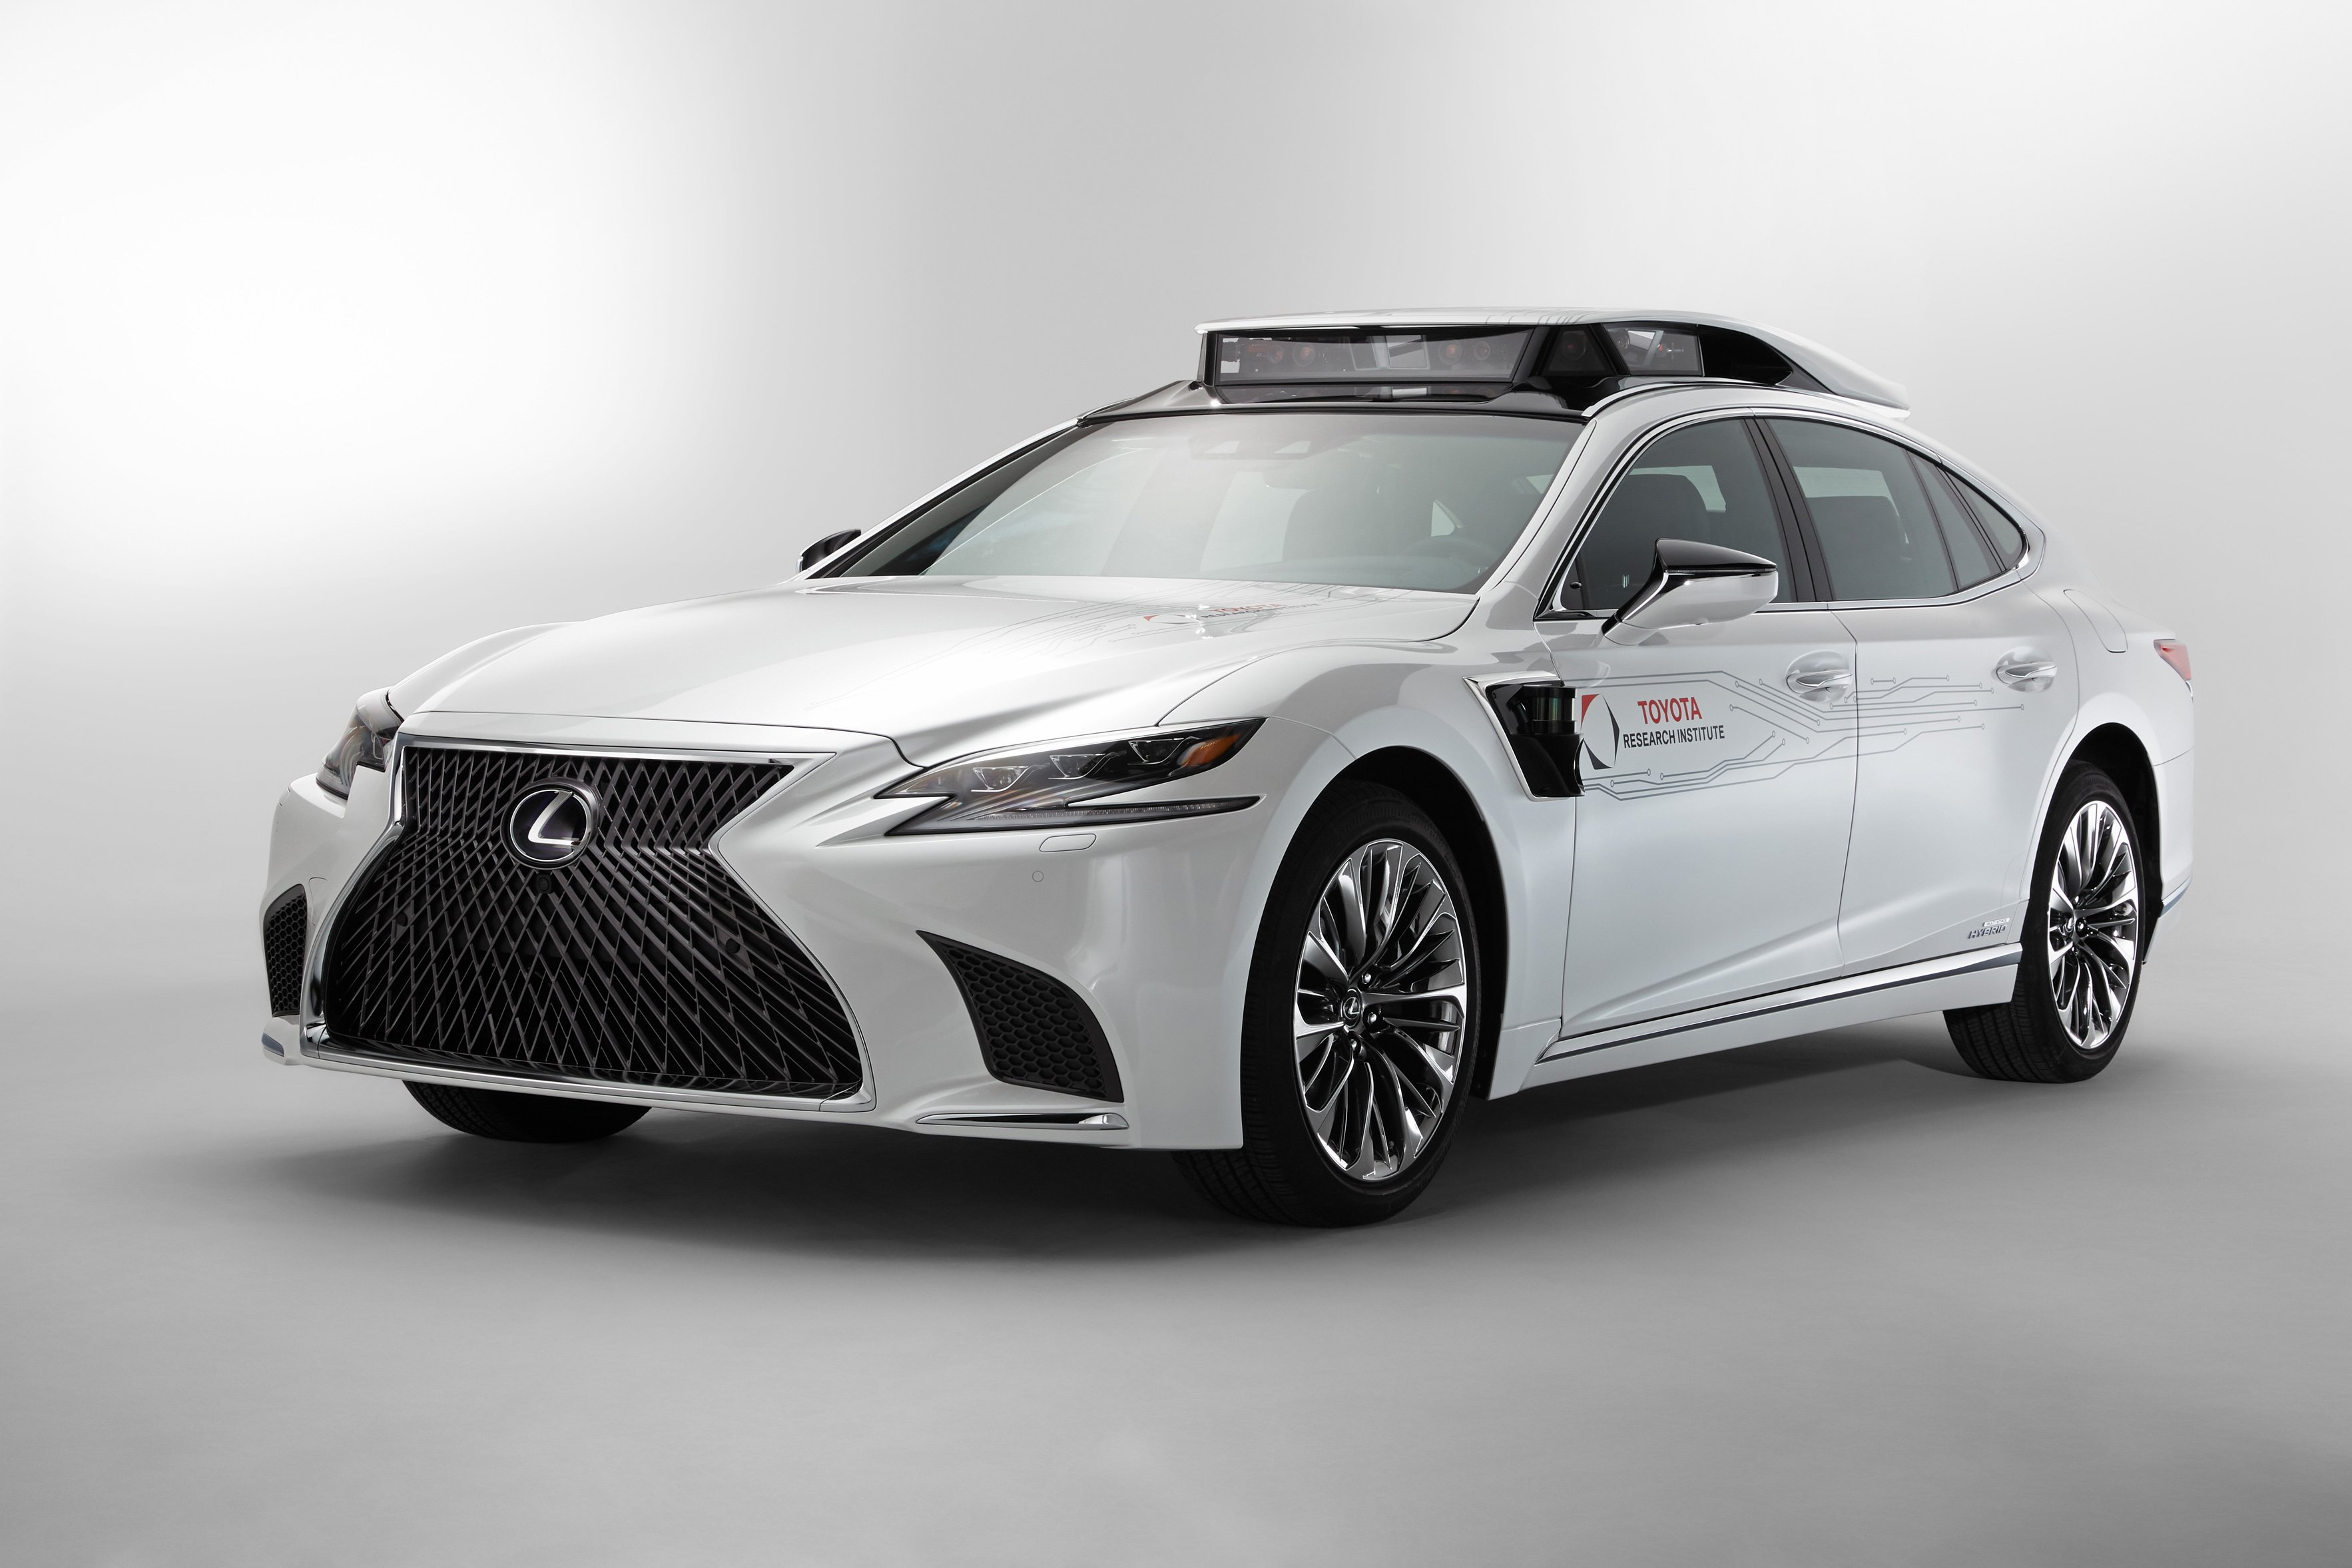car: (245, 234, 2230, 1148)
